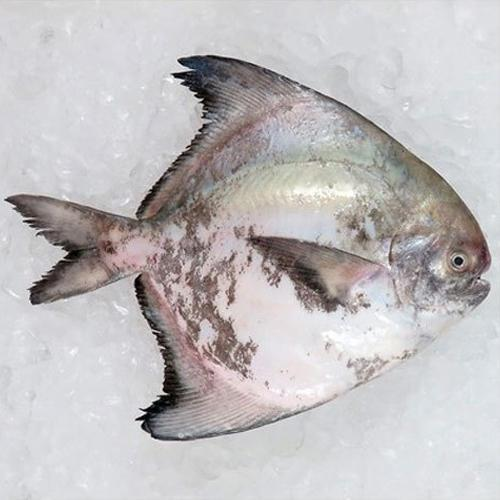Pomfret: (9, 51, 493, 449)
